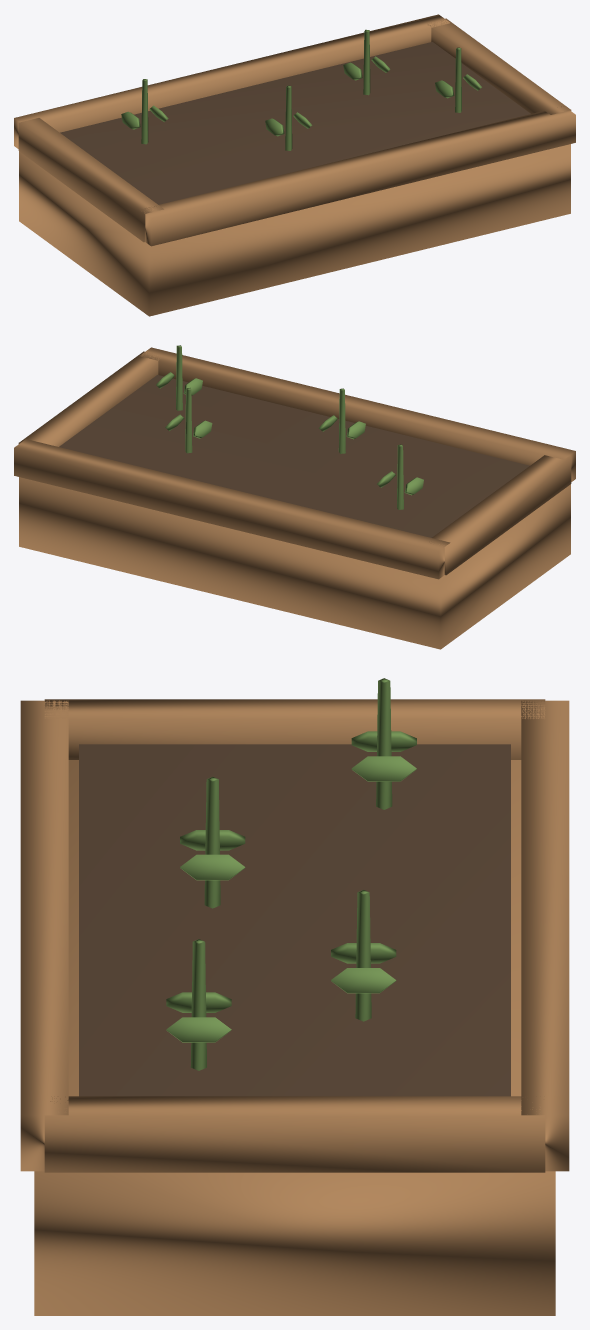
File: quest_flowerbed_empty_low.glb
The picture shows the model from 3 angles, top to bottom: view 1: azimuth 30°, elevation 25°; view 2: azimuth 150°, elevation 25°; view 3: azimuth 270°, elevation 25°; orthographic projection. The views are drawn at different scales.
Bounding box in the file's own units: 1.44 × 0.49 × 0.8.
